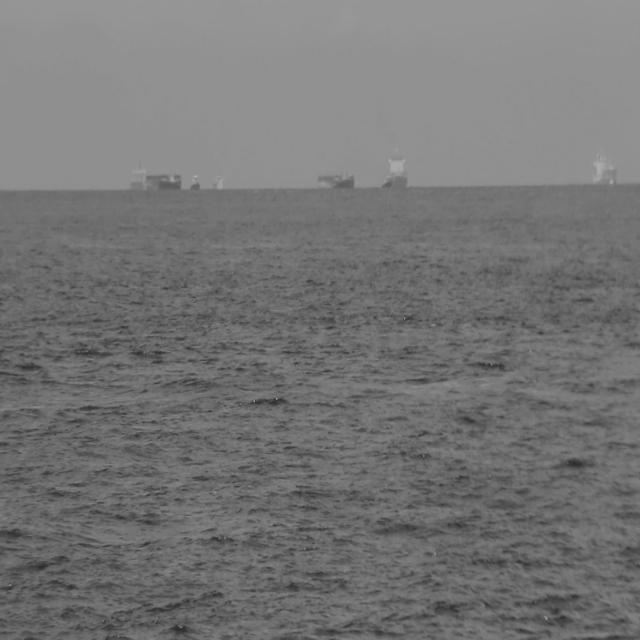ship: (130, 163, 182, 194), (379, 144, 410, 192), (590, 143, 616, 188), (316, 169, 355, 192), (188, 172, 202, 192)
